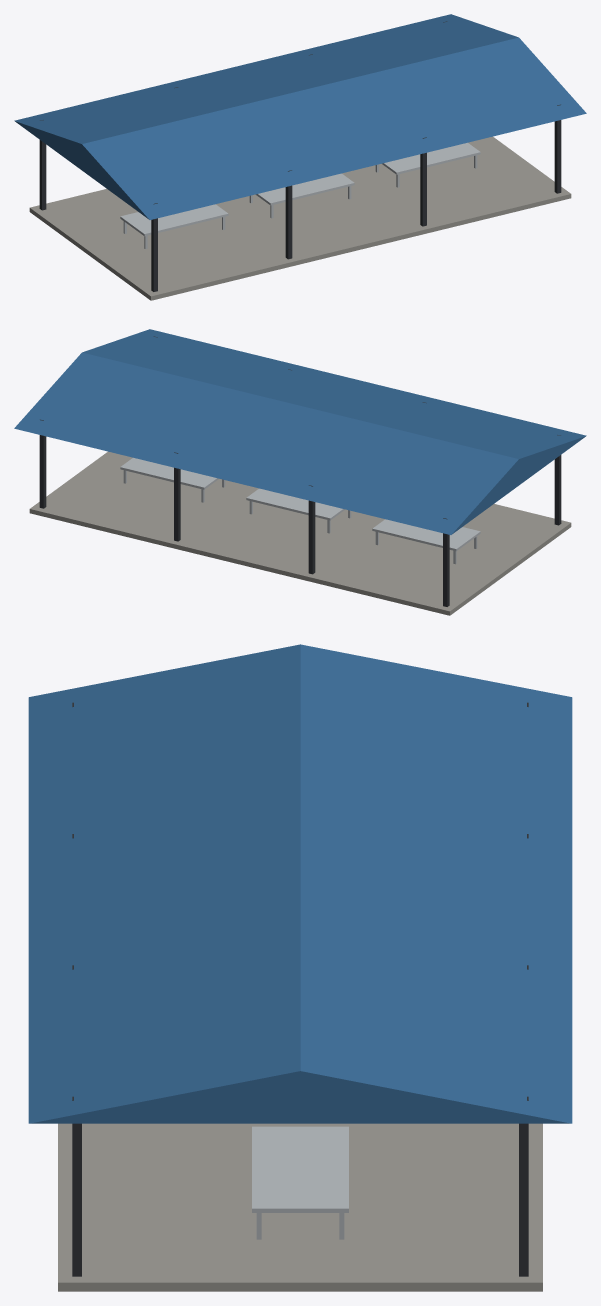
Rendered from bld_in_fish_shed.glb.
3 renders of one model, top to bottom at view 1: azimuth 30°, elevation 25°; view 2: azimuth 150°, elevation 25°; view 3: azimuth 270°, elevation 25°, orthographic. The views are drawn at different scales.
Parts seen in each view (by area): view 1: bld_in_fish_shed; view 2: bld_in_fish_shed; view 3: bld_in_fish_shed.
Boxes of the visible parts, bbox=[...] form: bld_in_fish_shed: bbox=[14, 14, 586, 300]; bld_in_fish_shed: bbox=[14, 329, 586, 615]; bld_in_fish_shed: bbox=[28, 644, 572, 1291].
Size of what is drawn, in the model's own units: 20.8 by 5.2 by 11.2.
